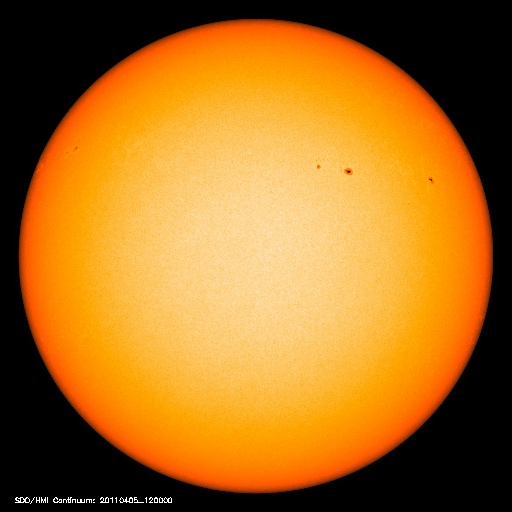sunspot: (306, 156, 357, 180), (416, 167, 445, 191), (60, 137, 84, 159)
